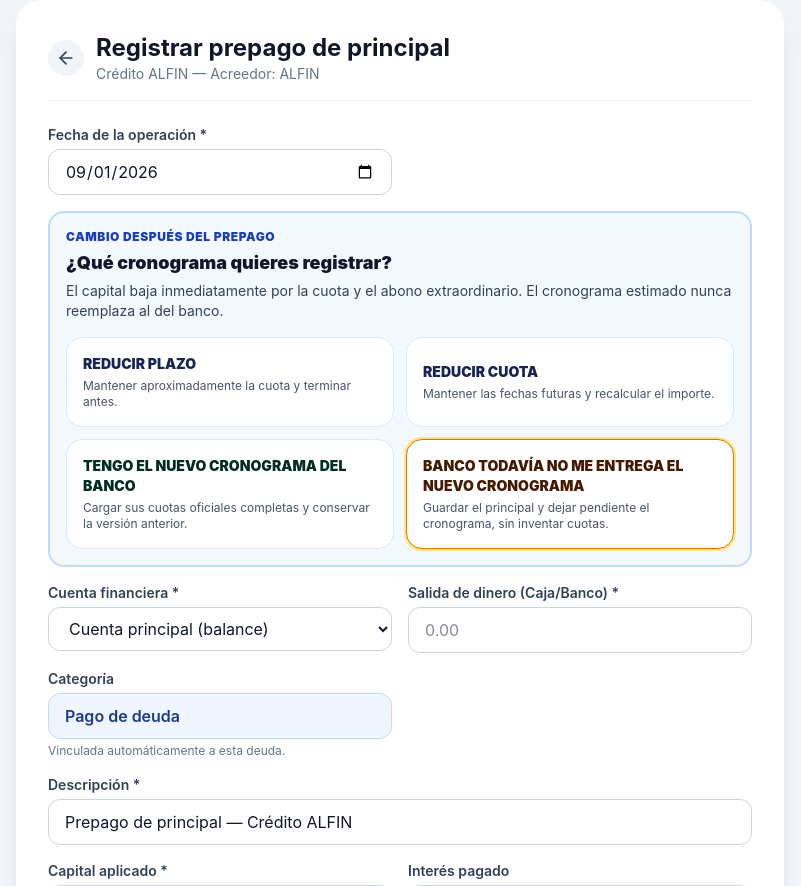
Test case: bank prepayment UX › offers the official-bank schedule path as a contractual replacement
This screenshot has width=801, height=886.
Step 1. Click the button "TENGO EL NUEVO CRONOGRAMA DEL BANCO" → (215, 466), box x1=66 y1=439 x2=394 y2=549
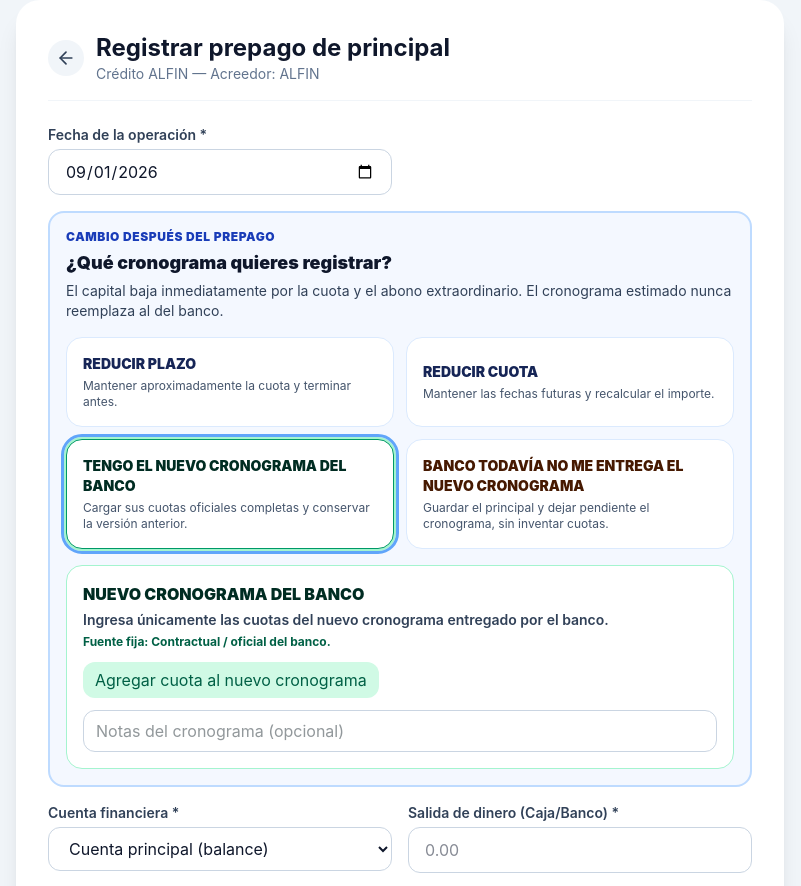
Expected: the element with test id "official-bank-schedule-editor" is shown, x1=66 y1=565 x2=734 y2=769
Expected: the text "Ingresa únicamente las cuotas del nuevo cronograma entregado por el banco." is shown, x1=83 y1=611 x2=609 y2=628
Expected: the text "Fuente fija: Contractual / oficial del banco." is shown, x1=83 y1=634 x2=331 y2=649
